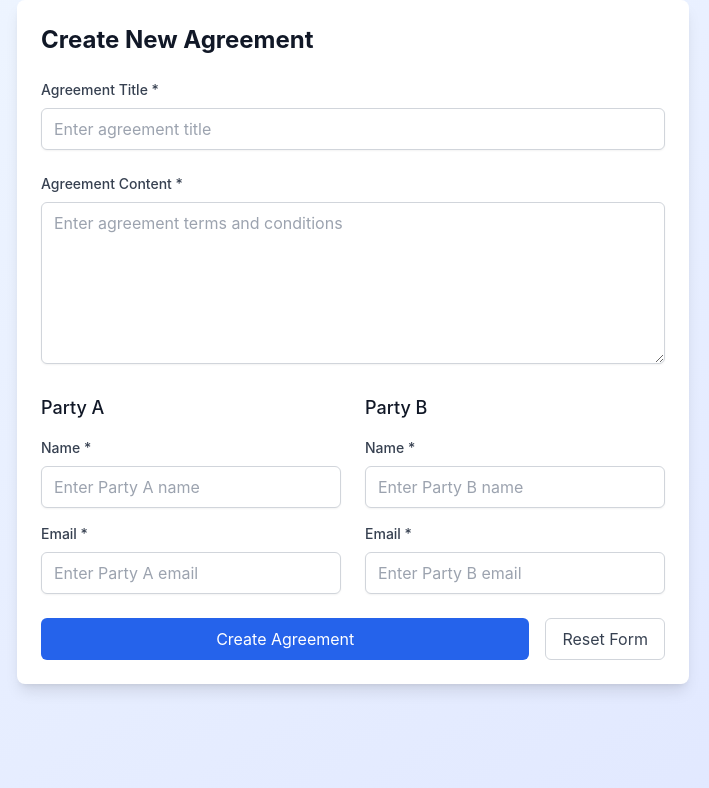
Scenario: CreateAgreementForm › Form Validation › shows validation error for empty content on submission
The image size is (709, 788).
In the field labelled "Agreement Title *": (353, 129) [41,108,665,150], type "Test Agreement"
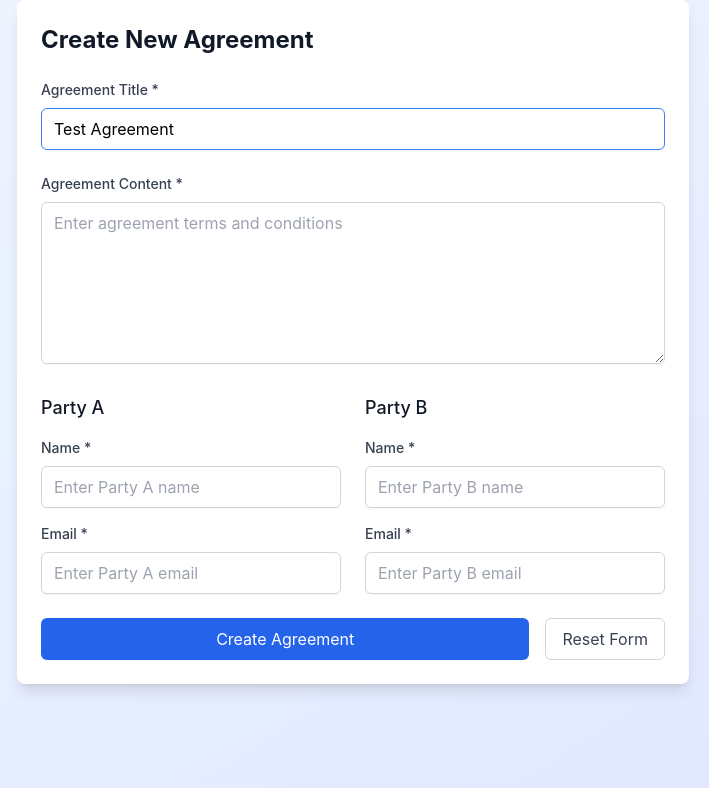
Click the button "Create Agreement": (285, 639) [41,618,529,660]
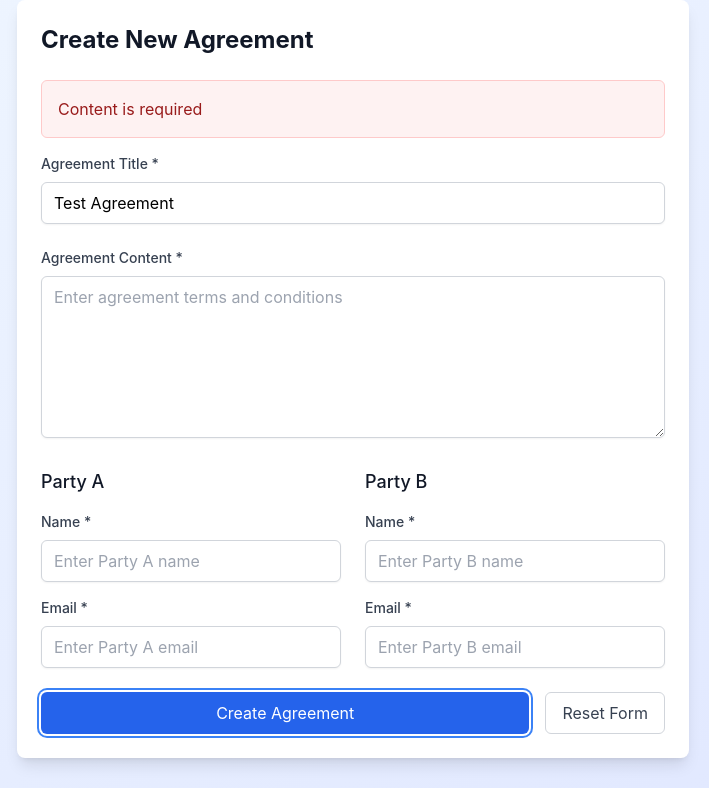
Expected: the text "Content is required" is shown, [58,99,202,119]
